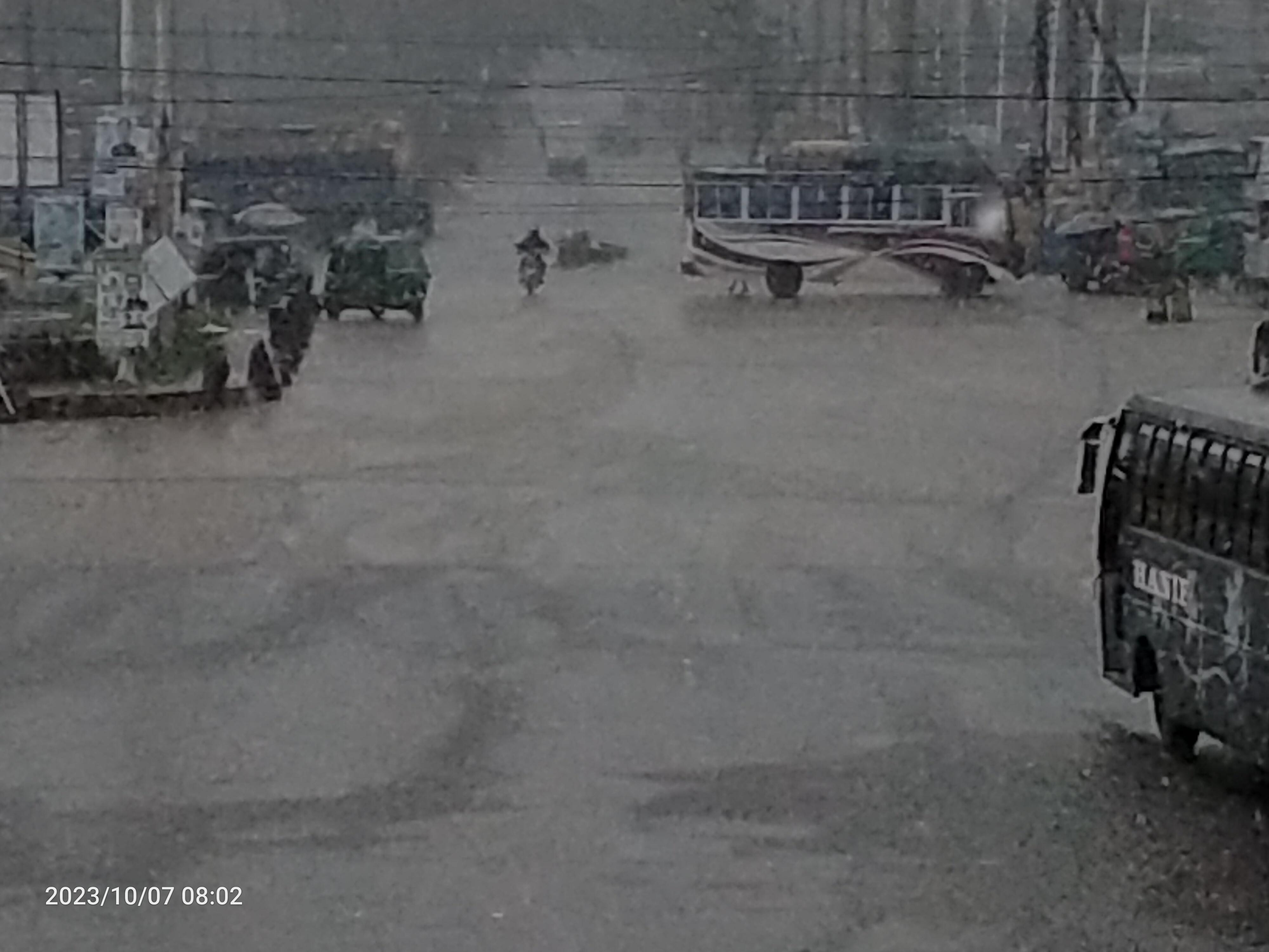Bike: (500, 214, 573, 325)
Bus: (1055, 374, 1269, 785), (663, 146, 1045, 331), (154, 104, 435, 231)
Car: (535, 102, 598, 186)
